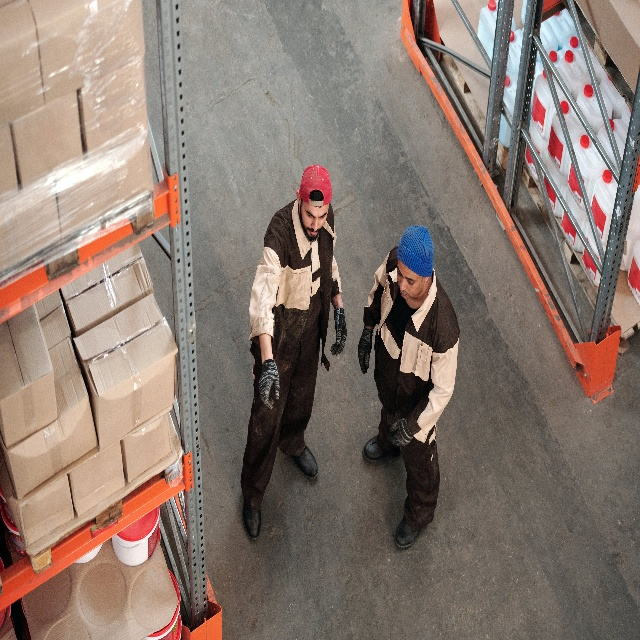Guantes: (258, 357, 281, 410), (329, 307, 347, 358), (357, 322, 374, 374), (388, 417, 414, 448)
